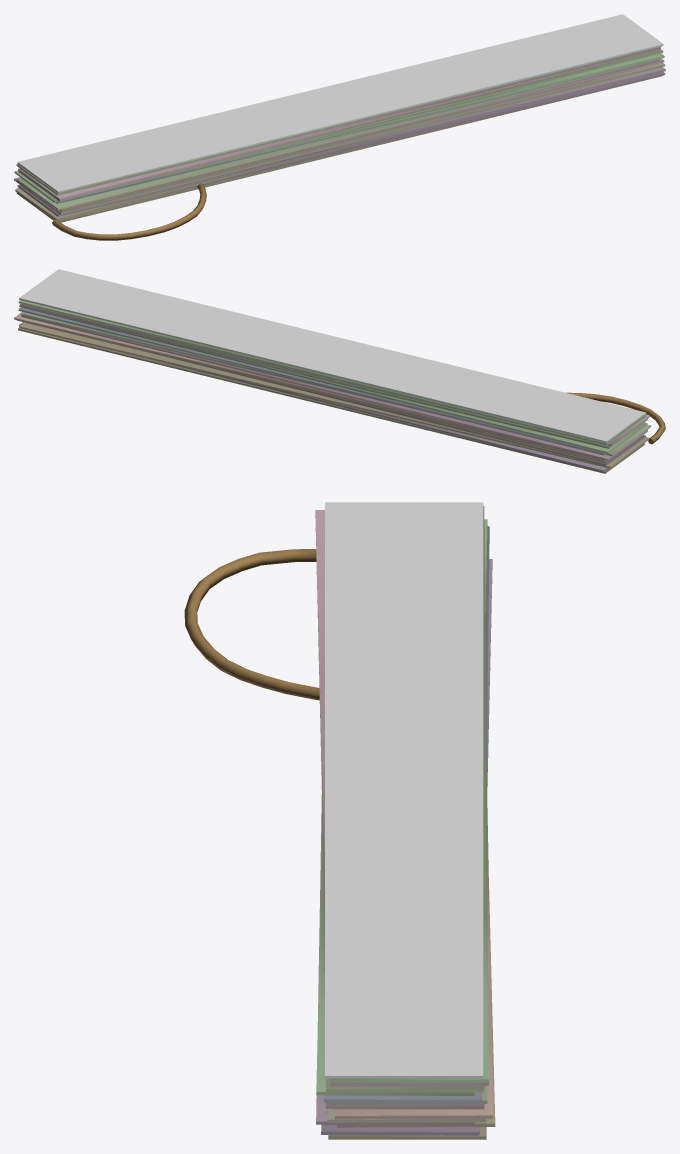
File: record-bundle.dccf0ecf.glb
The picture shows the model from 3 angles, top to bottom: view 1: azimuth 30°, elevation 25°; view 2: azimuth 150°, elevation 25°; view 3: azimuth 270°, elevation 25°; orthographic projection. The views are drawn at different scales.
Visible parts, largest first — view 1: leaf_top, record_bundle; view 2: leaf_top, record_bundle; view 3: leaf_top, record_bundle.
Part boxes in pixels (<box>): leaf_top: <box>17,14,663,193</box>; record_bundle: <box>14,46,665,240</box>; leaf_top: <box>19,269,646,442</box>; record_bundle: <box>14,300,665,473</box>; leaf_top: <box>325,502,483,1078</box>; record_bundle: <box>184,506,495,1139</box>.
Size of the model in its own units: 0.3051 by 0.0155 by 0.0687.
